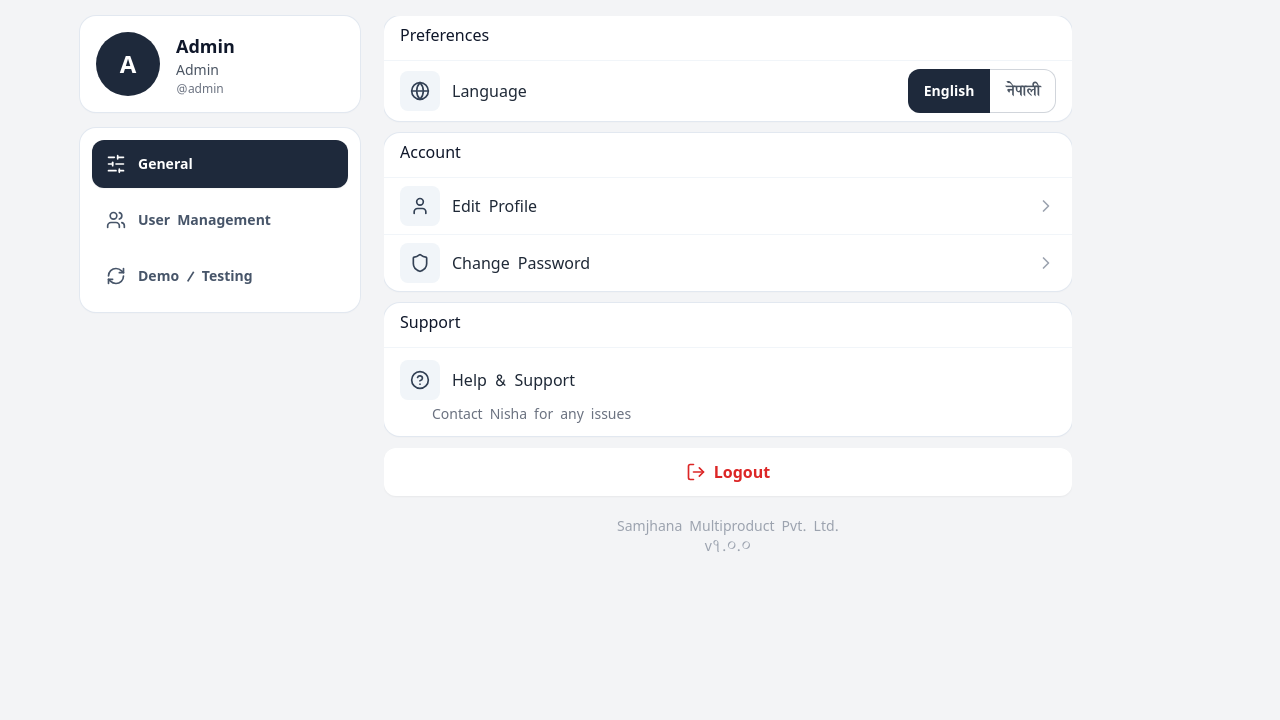
Scenario: SettingsPage demo reset › shows an error when the reset fails
The width and height of the screenshot is (1280, 720).
Click the button "Demo / Testing" at (220, 276), box [92,252,348,300]
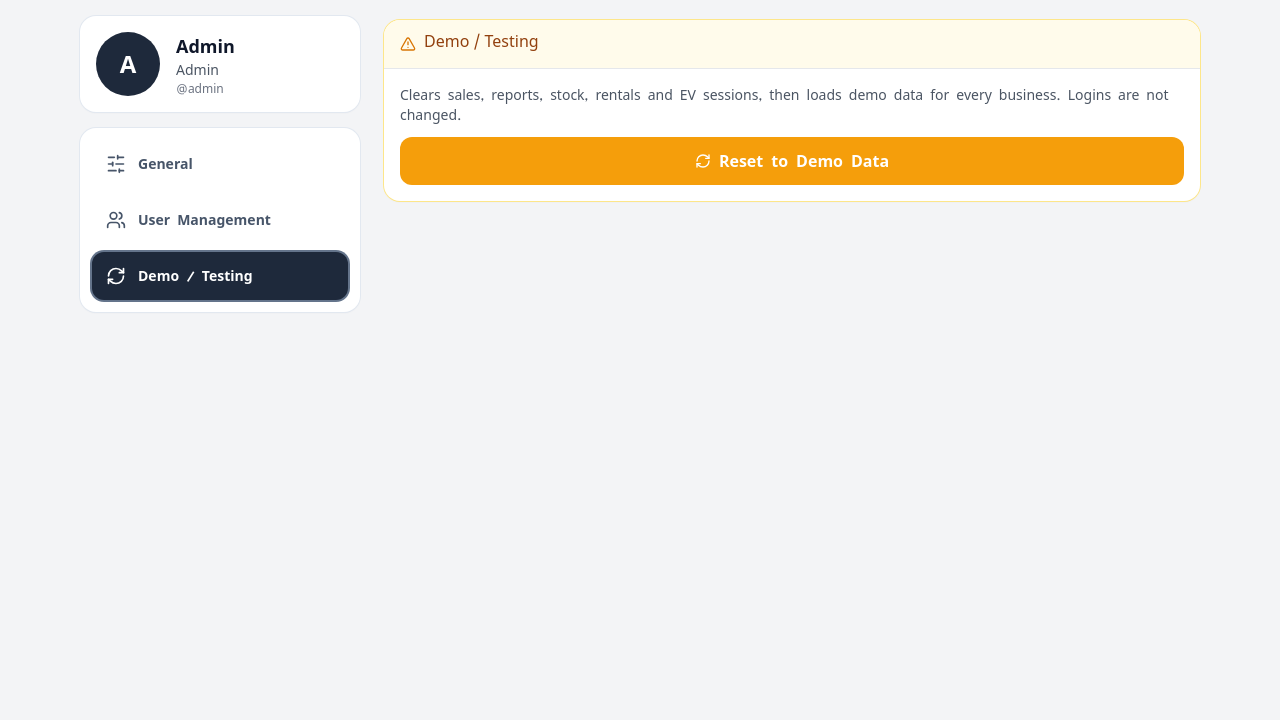
Click the button "Reset to Demo Data" at (792, 161), box [400,137,1184,185]
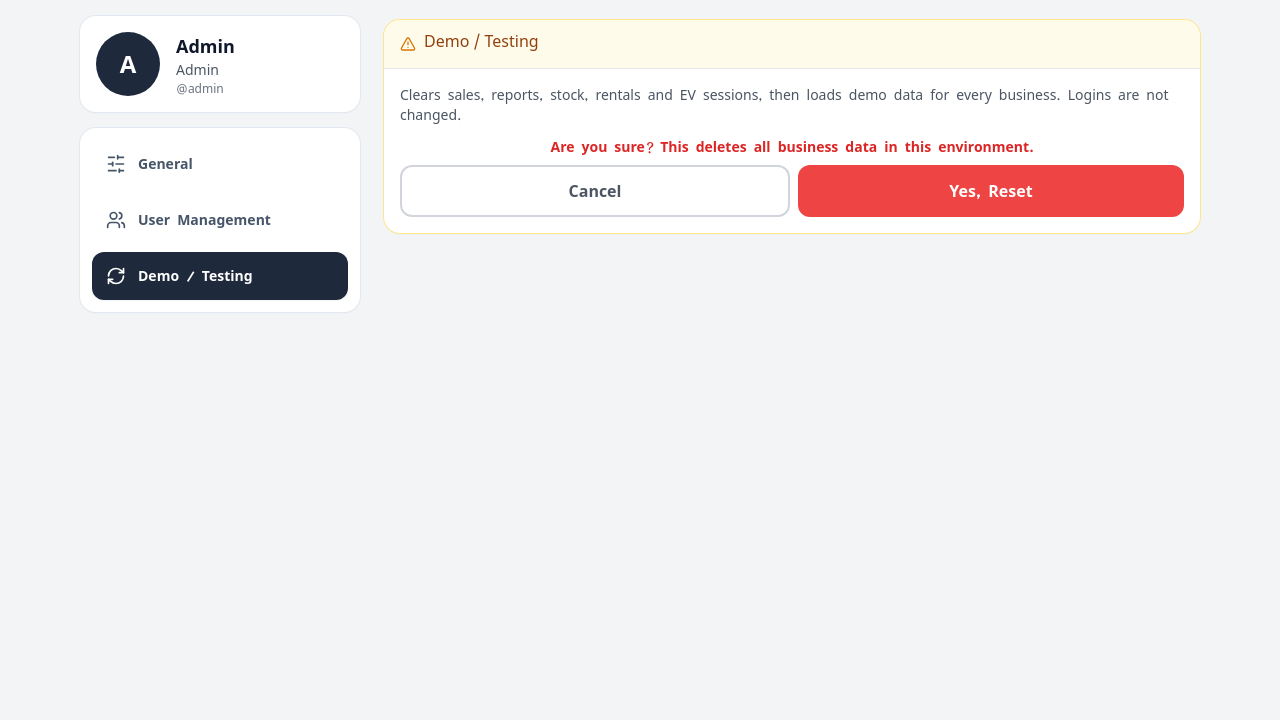
Click the button "Yes, Reset" at (991, 191), box [798,165,1184,217]
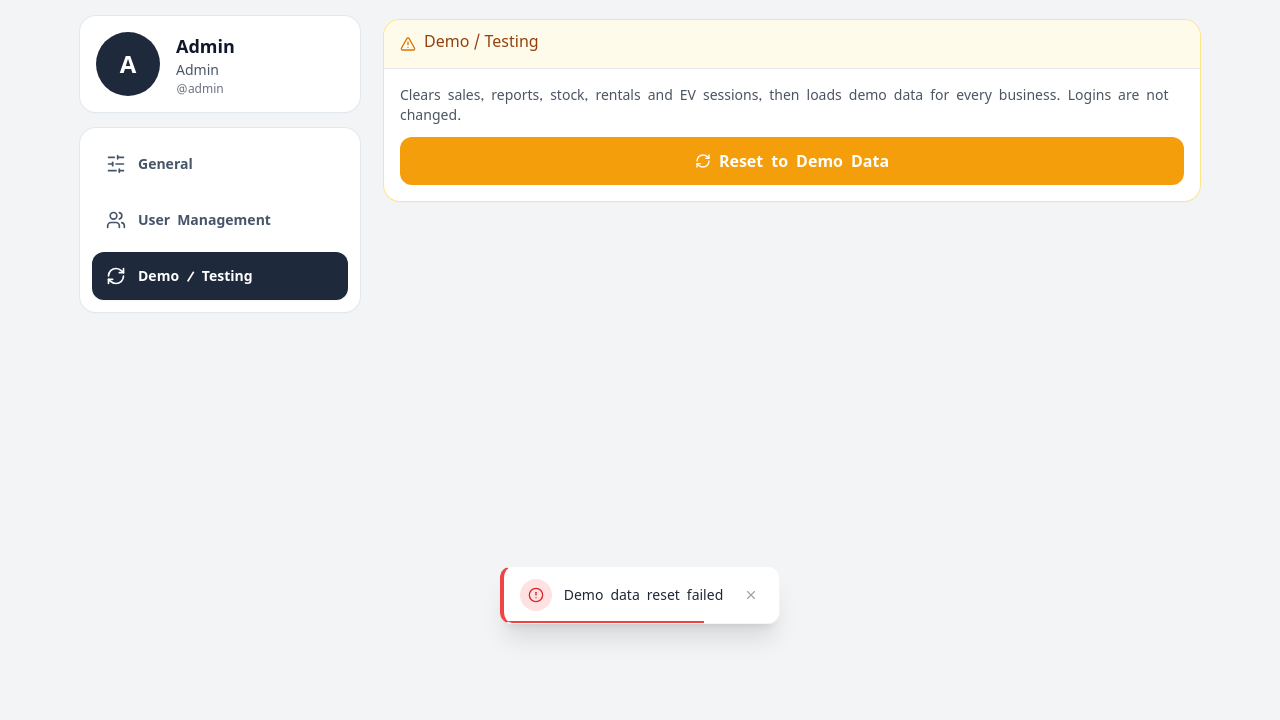
expect the text "Demo data reset failed" is shown: met, box [564,585,727,605]
